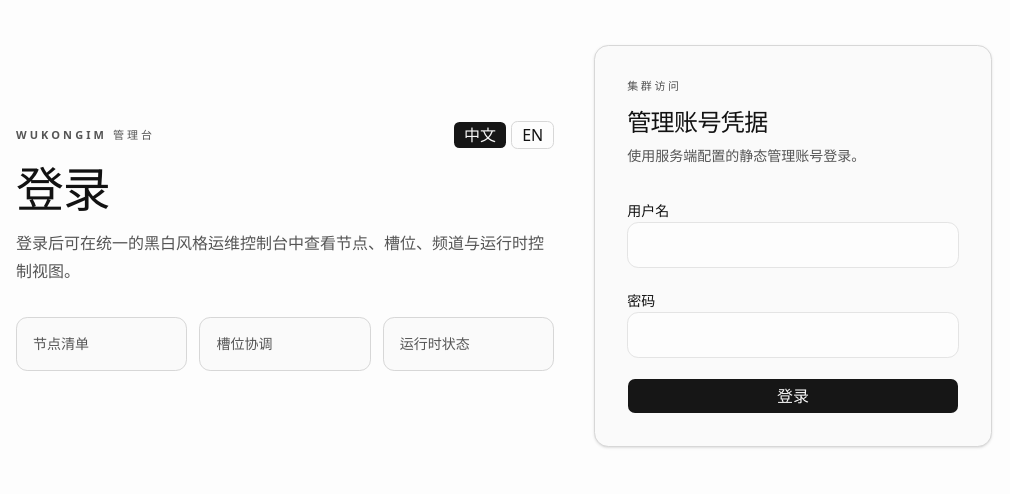
Test case: shows translated Chinese login copy and a translated 401 error
Expected: the heading "登录" is shown, x1=16 y1=156 x2=110 y2=221
Click the button "登录" at (793, 396), box x1=627 y1=378 x2=959 y2=414
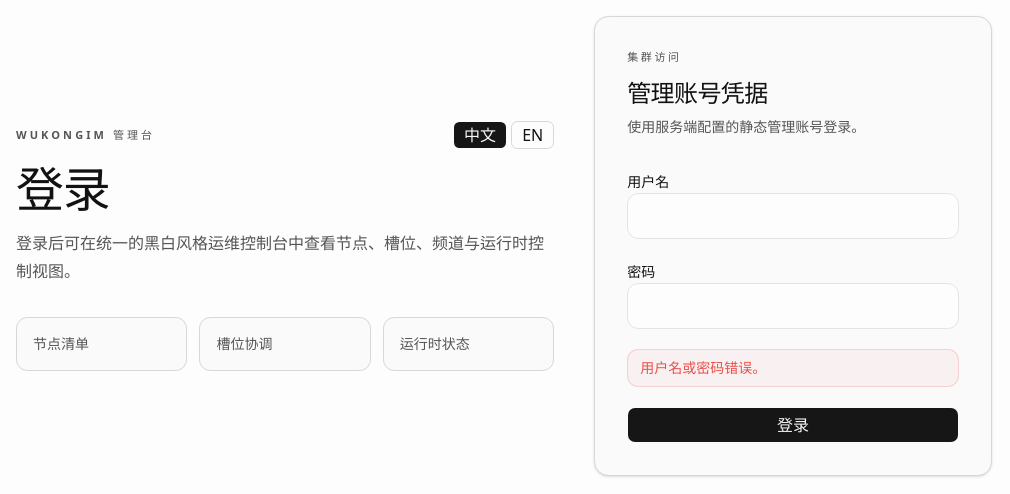
Expected: the text "用户名或密码错误。" is shown, x1=627 y1=349 x2=959 y2=387
